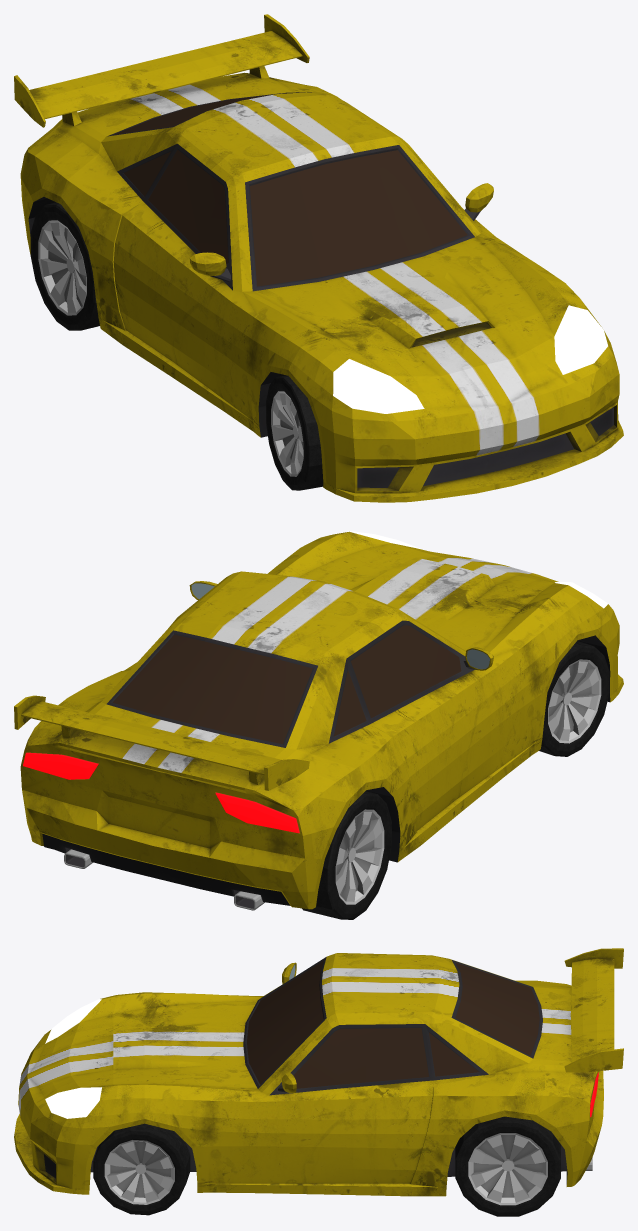
File: sports car.glb
3 views of the same model, one above another, from view 1: azimuth 30°, elevation 25°; view 2: azimuth 150°, elevation 25°; view 3: azimuth 270°, elevation 25° (orthographic). The views are drawn at different scales.
Parts seen in each view (by area): view 1: Body, Glass, WheelRR, WheelFR; view 2: Body, Glass, WheelRR, WheelFR; view 3: Body, Glass, WheelRL, WheelFL.
Part boxes in pixels (box(x1,y1,x2,y2)): Body: box(14, 14, 623, 502); Glass: box(113, 93, 607, 413); WheelRR: box(30, 202, 99, 330); WheelFR: box(266, 375, 323, 490); Body: box(14, 531, 623, 910); Glass: box(23, 531, 607, 833); WheelRR: box(302, 791, 391, 919); WheelFR: box(539, 641, 609, 756); Body: box(14, 948, 623, 1196); Glass: box(45, 961, 598, 1118); WheelRL: box(455, 1116, 560, 1216); WheelFL: box(93, 1123, 190, 1215).
Size of the model in its own units: 1.93 by 1.32 by 4.08.
6 materials, 4 textured.
